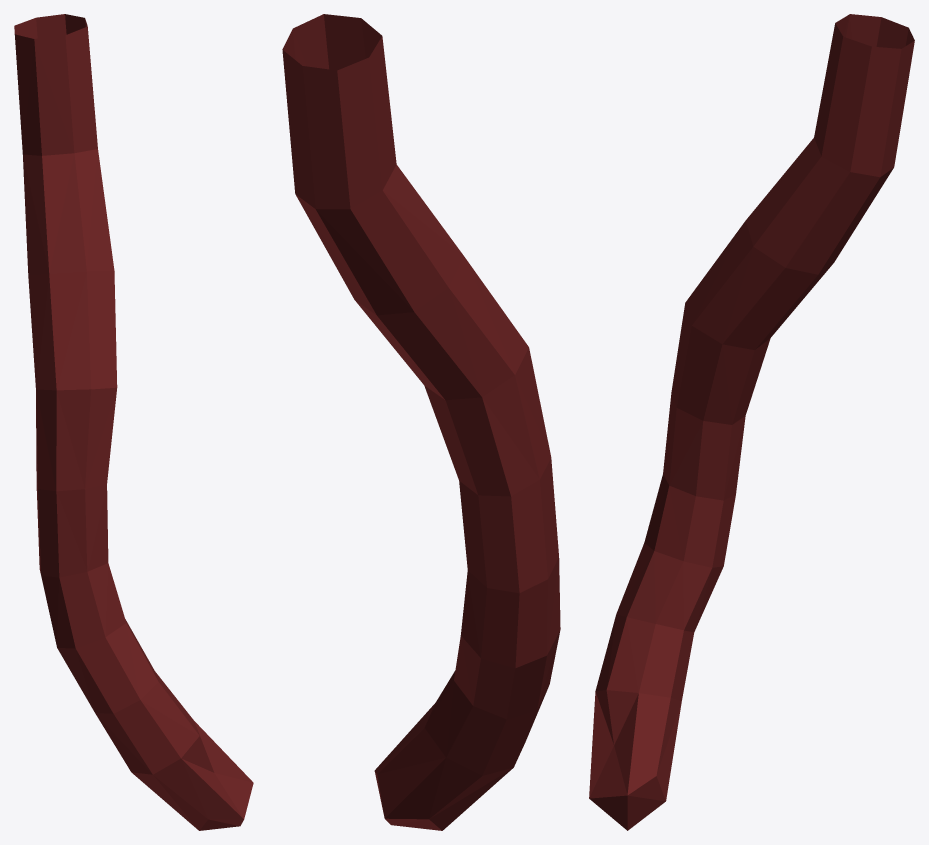
The model's file is tronco braquiocefalico.FBX.
3 renders of one model, left to right at view 1: azimuth 30°, elevation 25°; view 2: azimuth 150°, elevation 25°; view 3: azimuth 270°, elevation 25°, orthographic. The views are drawn at different scales.
Parts seen in each view (by area): view 1: CS_Arterie; view 2: CS_Arterie; view 3: CS_Arterie.
Part boxes in pixels (bbox=[...]): CS_Arterie: bbox=[14, 14, 253, 830]; CS_Arterie: bbox=[282, 14, 560, 830]; CS_Arterie: bbox=[589, 14, 914, 830].
Bounding box in the file's own units: 1.71 × 6.86 × 2.63.
